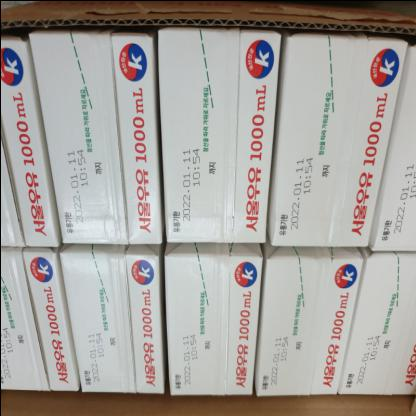tetra: (261, 24, 415, 250), (152, 1, 281, 267), (41, 0, 159, 260), (59, 243, 167, 415), (252, 254, 362, 416), (158, 244, 262, 415)
